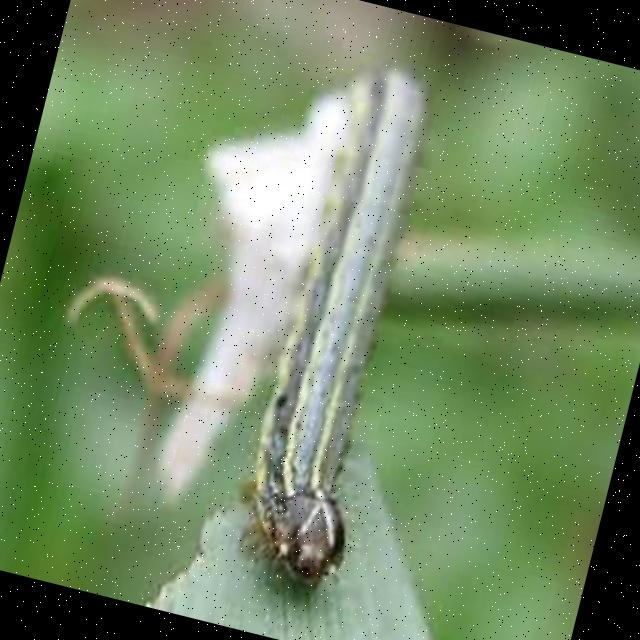worm: (218, 54, 465, 604)
